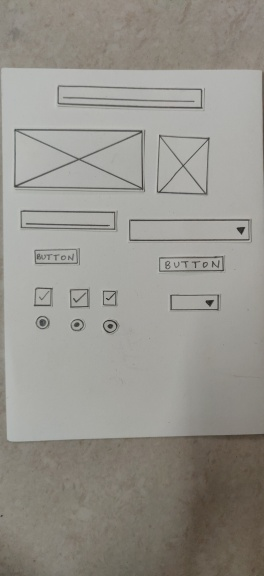button: (157, 255, 224, 273), (32, 248, 81, 267)
checkbox: (68, 289, 91, 309), (33, 285, 52, 307), (100, 287, 118, 307)
dropdown: (127, 217, 252, 242), (170, 294, 223, 312)
img: (13, 126, 145, 193), (156, 131, 209, 195)
radio: (102, 319, 120, 335), (35, 315, 51, 330), (70, 318, 84, 330)
text: (56, 83, 207, 112), (18, 208, 117, 232)
